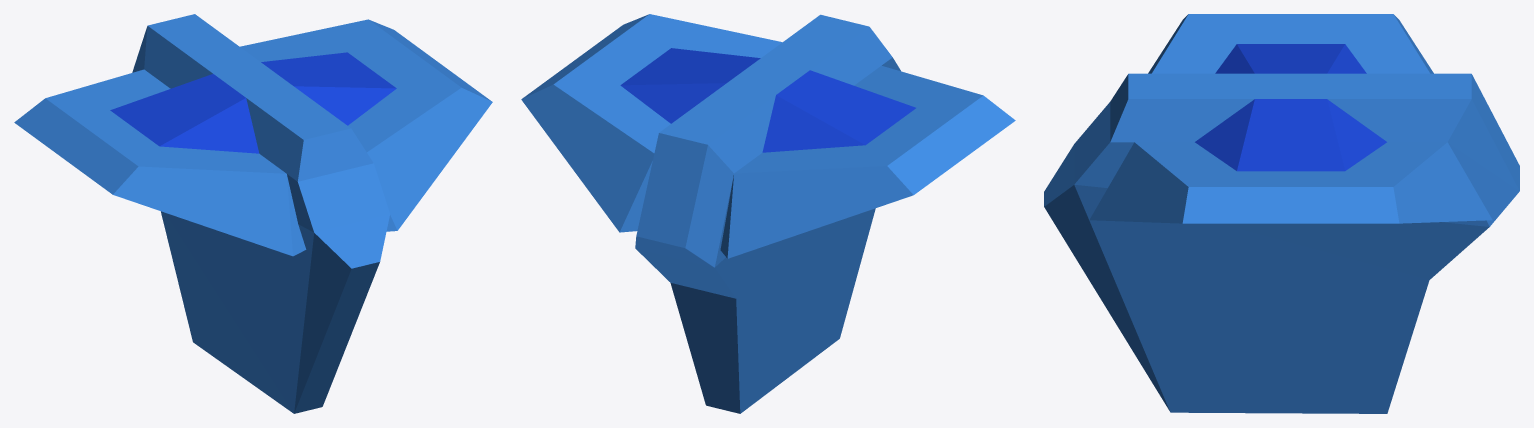
File: Waist.FBX
The picture shows the model from 3 angles, left to right: view 1: azimuth 30°, elevation 25°; view 2: azimuth 150°, elevation 25°; view 3: azimuth 270°, elevation 25°; orthographic projection. The views are drawn at different scales.
Parts seen in each view (by area): view 1: VIFS001, VIFS002; view 2: VIFS001, VIFS002; view 3: VIFS001, VIFS002.
Part boxes in pixels (x1=…): VIFS001: x1=14, y1=14, x2=492, y2=413; VIFS002: x1=110, y1=52, x2=396, y2=153; VIFS001: x1=521, y1=14, x2=1015, y2=413; VIFS002: x1=620, y1=48, x2=915, y2=152; VIFS001: x1=1044, y1=14, x2=1519, y2=413; VIFS002: x1=1195, y1=44, x2=1386, y2=171.
Size of the model in its own units: 1.63 by 1.19 by 1.61.
